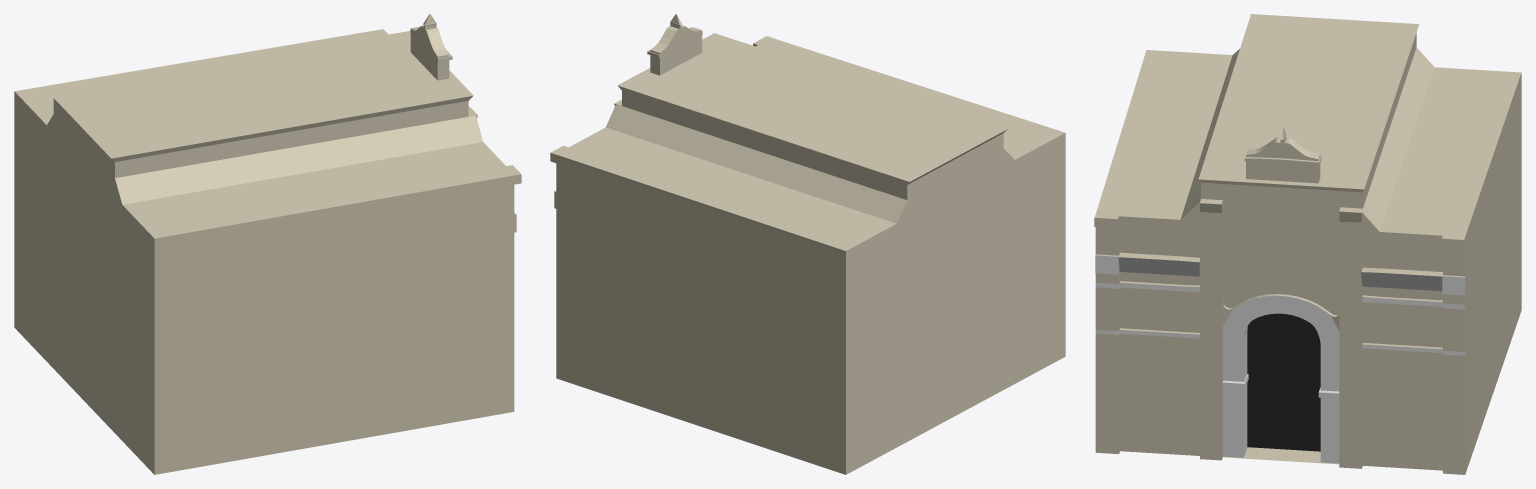
Rendered from Building3.fbx.
3 renders of one model, left to right at view 1: azimuth 30°, elevation 25°; view 2: azimuth 150°, elevation 25°; view 3: azimuth 270°, elevation 25°, orthographic. The views are drawn at different scales.
Visible parts, largest first — view 1: Cube.004; view 2: Cube.004; view 3: Cube.004.
Part boxes in pixels (<box>): Cube.004: <box>14,14,521,474</box>; Cube.004: <box>550,14,1065,474</box>; Cube.004: <box>1094,14,1521,474</box>.
Size of the model in its own units: 317 by 257 by 301.
